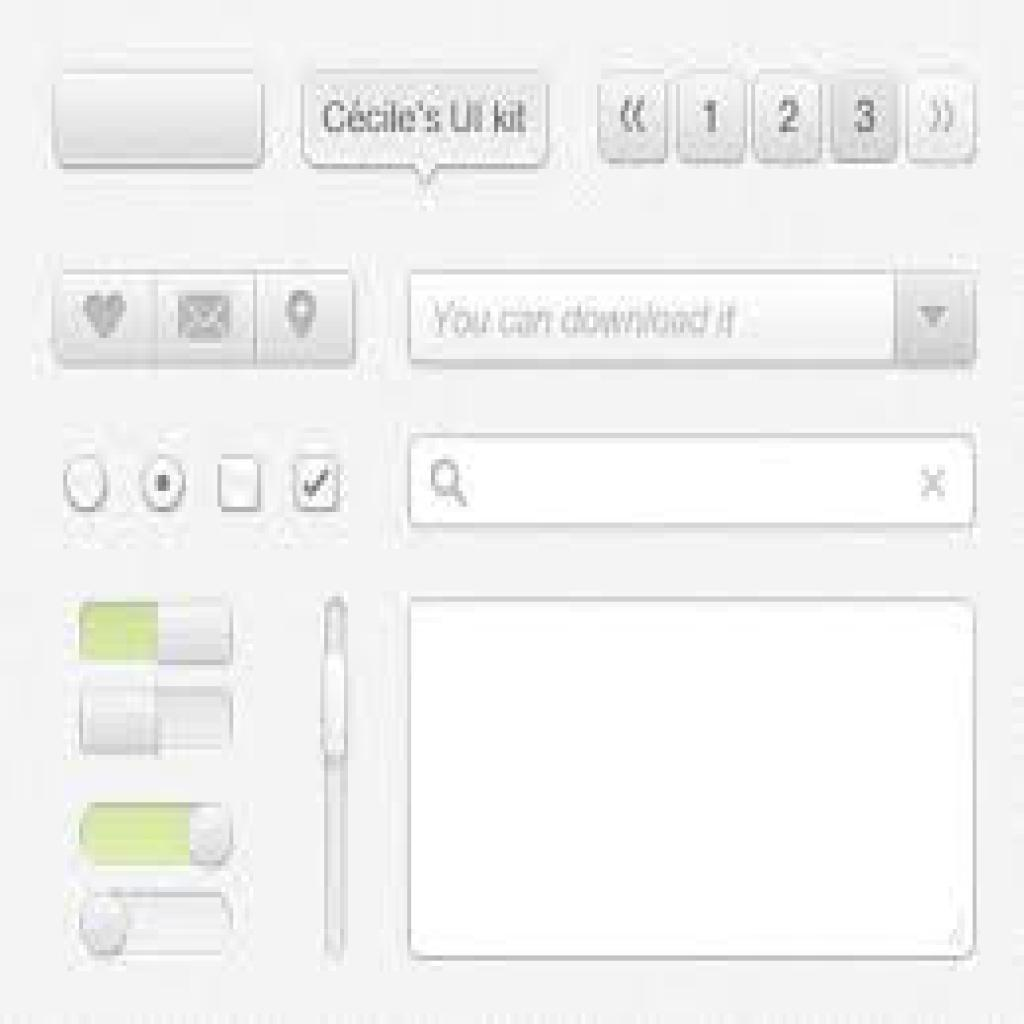checkbox: (293, 457, 342, 510), (221, 455, 264, 510)
dropdown: (412, 271, 977, 368)
icon: (171, 290, 239, 349), (82, 286, 132, 341), (282, 287, 324, 344)
input: (409, 435, 976, 524)
radio: (140, 453, 192, 513), (62, 454, 112, 512)
slider: (314, 589, 376, 960)
switch: (81, 888, 239, 957), (79, 800, 238, 868), (81, 685, 235, 755), (76, 602, 236, 664)
